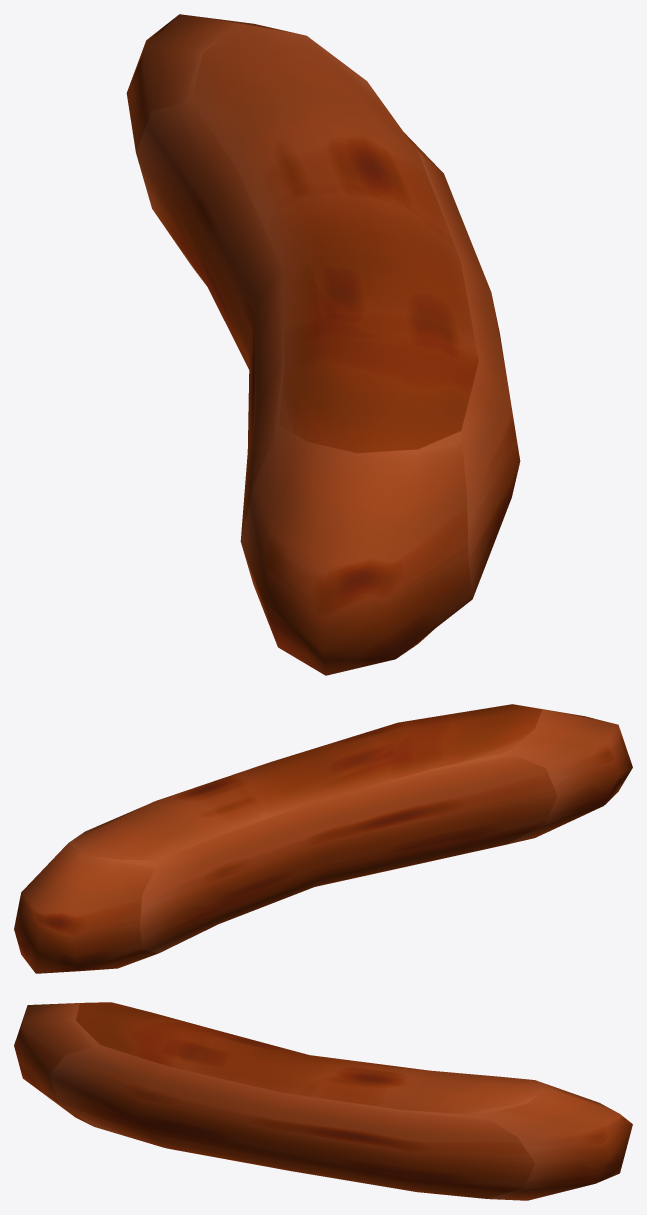
Rendered from sosezi.fbx.
3 renders of one model, top to bottom at view 1: azimuth 30°, elevation 25°; view 2: azimuth 150°, elevation 25°; view 3: azimuth 270°, elevation 25°, orthographic. The views are drawn at different scales.
Visible parts, largest first — view 1: sosezi.001; view 2: sosezi.001; view 3: sosezi.001.
Boxes of the visible parts, x1,y1,x2,y2 form: sosezi.001: (126, 14, 520, 675); sosezi.001: (14, 704, 632, 973); sosezi.001: (14, 1002, 632, 1200).
Size of the model in its own units: 275 by 105 by 525.
